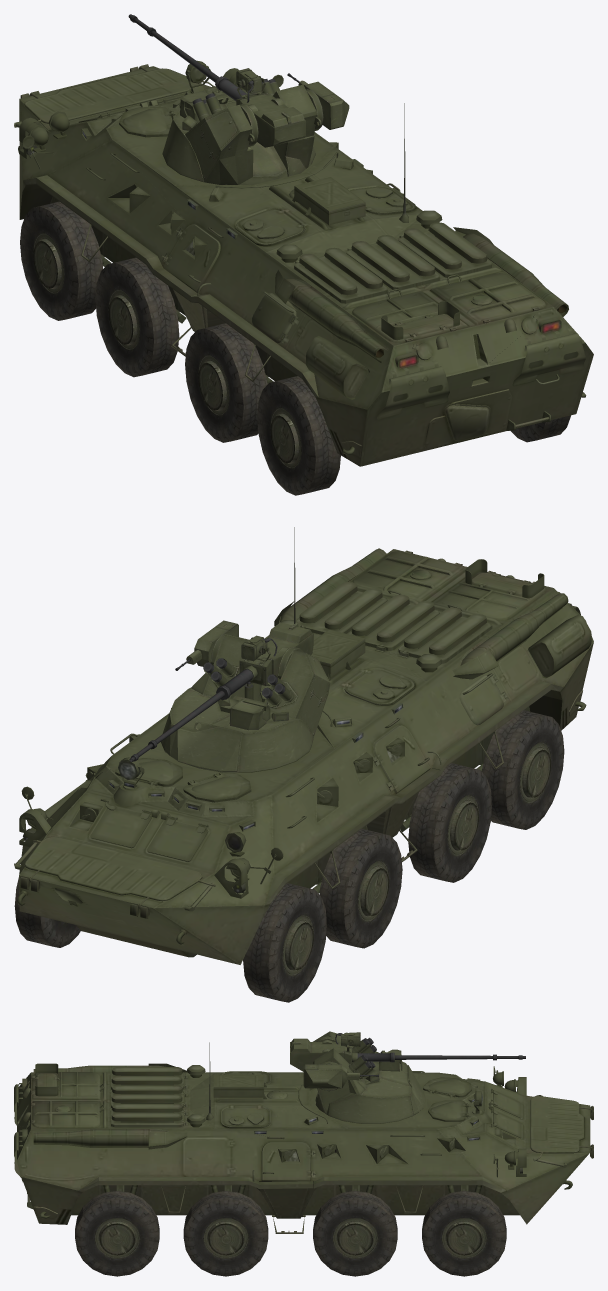
Rendered from btr.glb.
3 renders of one model, top to bottom at view 1: azimuth 30°, elevation 25°; view 2: azimuth 150°, elevation 25°; view 3: azimuth 270°, elevation 25°, orthographic. The views are drawn at different scales.
Visible parts, largest first — view 1: default016, default017, default019, default045, default018, default001, default040, default038, default042, default044, default023, default010 (+11 smaller); view 2: default016, default045, default017, default018, default019, default001, default042, default040, default044, default038, default023, default010 (+14 smaller); view 3: default016, default017, default019, default045, default018, default041, default043, default037, default039, default023, default008, default001 (+14 smaller).
Part boxes in pixels (x1=…): default016: x1=19, y1=66, x2=593, y2=466; default017: x1=285, y1=233, x2=585, y2=449; default019: x1=209, y1=152, x2=586, y2=457; default045: x1=162, y1=84, x2=323, y2=184; default018: x1=14, y1=60, x2=283, y2=229; default001: x1=252, y1=177, x2=493, y2=399; default040: x1=95, y1=257, x2=179, y2=377; default038: x1=20, y1=201, x2=102, y2=320; default042: x1=185, y1=323, x2=267, y2=442; default044: x1=257, y1=376, x2=340, y2=495; default023: x1=215, y1=76, x2=349, y2=147; default010: x1=163, y1=224, x2=220, y2=292; default016: x1=19, y1=549, x2=593, y2=964; default045: x1=161, y1=633, x2=330, y2=772; default017: x1=279, y1=548, x2=580, y2=666; default018: x1=14, y1=757, x2=370, y2=944; default019: x1=260, y1=582, x2=586, y2=726; default001: x1=274, y1=601, x2=591, y2=725; default042: x1=408, y1=763, x2=492, y2=882; default040: x1=319, y1=829, x2=402, y2=948; default044: x1=481, y1=710, x2=564, y2=829; default038: x1=243, y1=883, x2=326, y2=1002; default023: x1=186, y1=620, x2=313, y2=700; default010: x1=373, y1=725, x2=430, y2=793; default016: x1=17, y1=1071, x2=590, y2=1224; default017: x1=14, y1=1063, x2=169, y2=1181; default019: x1=27, y1=1065, x2=327, y2=1218; default045: x1=313, y1=1031, x2=425, y2=1123; default018: x1=323, y1=1066, x2=593, y2=1189; default041: x1=183, y1=1191, x2=268, y2=1276; default043: x1=75, y1=1191, x2=159, y2=1276; default037: x1=422, y1=1191, x2=506, y2=1276; default039: x1=313, y1=1191, x2=397, y2=1276; default023: x1=290, y1=1038, x2=394, y2=1088; default008: x1=261, y1=1142, x2=310, y2=1181; default001: x1=148, y1=1063, x2=266, y2=1149.
Bounding box in the file's own units: 2.91 × 3.2 × 7.7.
Materials: 4 (4 with a texture image).
